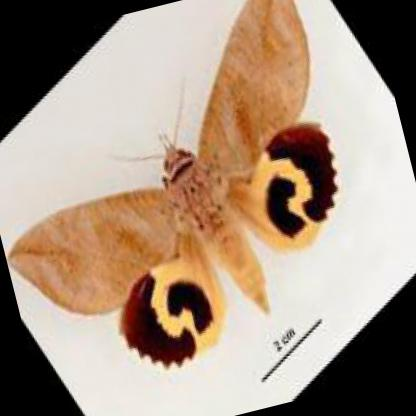fruit sucking moth: (9, 0, 338, 365)
